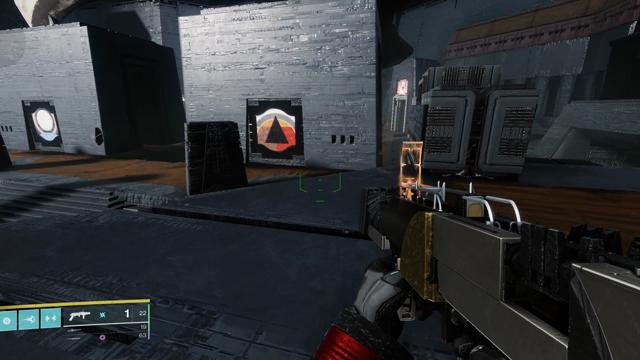pyramid: (255, 107, 297, 152)
traveler: (31, 108, 59, 141)
